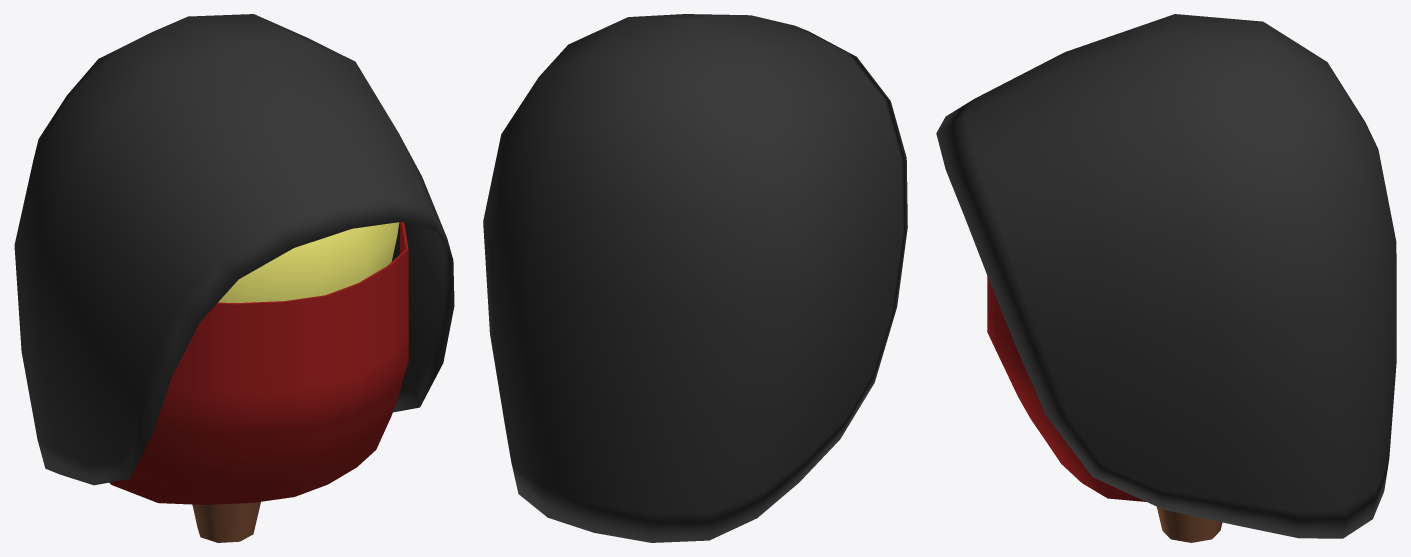
File: Lv4_FB_Rogue.FBX
3 renders of one model, left to right at view 1: azimuth 30°, elevation 25°; view 2: azimuth 150°, elevation 25°; view 3: azimuth 270°, elevation 25°, orthographic. The views are drawn at different scales.
Parts seen in each view (by area): view 1: Box001, Plane001, Sphere001, Cylinder001; view 2: Box001; view 3: Box001, Plane001, Cylinder001.
Part boxes in pixels (left/top/right/bottom): Box001: left=14, top=14, right=454, bottom=485; Plane001: left=109, top=222, right=408, bottom=504; Sphere001: left=218, top=222, right=399, bottom=303; Cylinder001: left=192, top=502, right=260, bottom=542; Box001: left=483, top=14, right=907, bottom=542; Box001: left=936, top=14, right=1396, bottom=538; Plane001: left=987, top=276, right=1145, bottom=501; Cylinder001: left=1157, top=507, right=1222, bottom=542.
Bounding box in the file's own units: 147 × 199 × 167.
